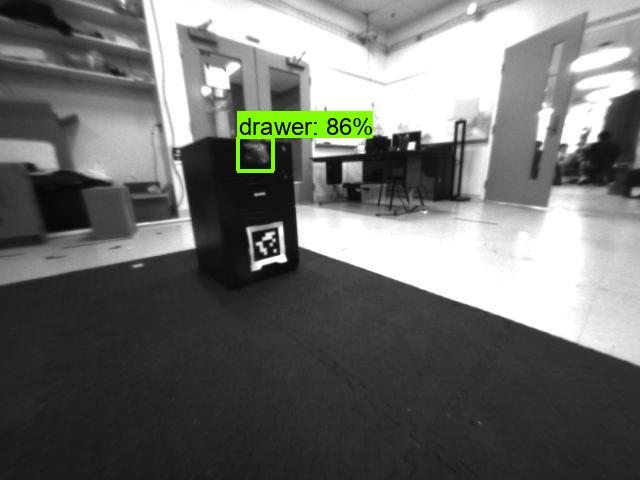drawer: (235, 137, 275, 167)
